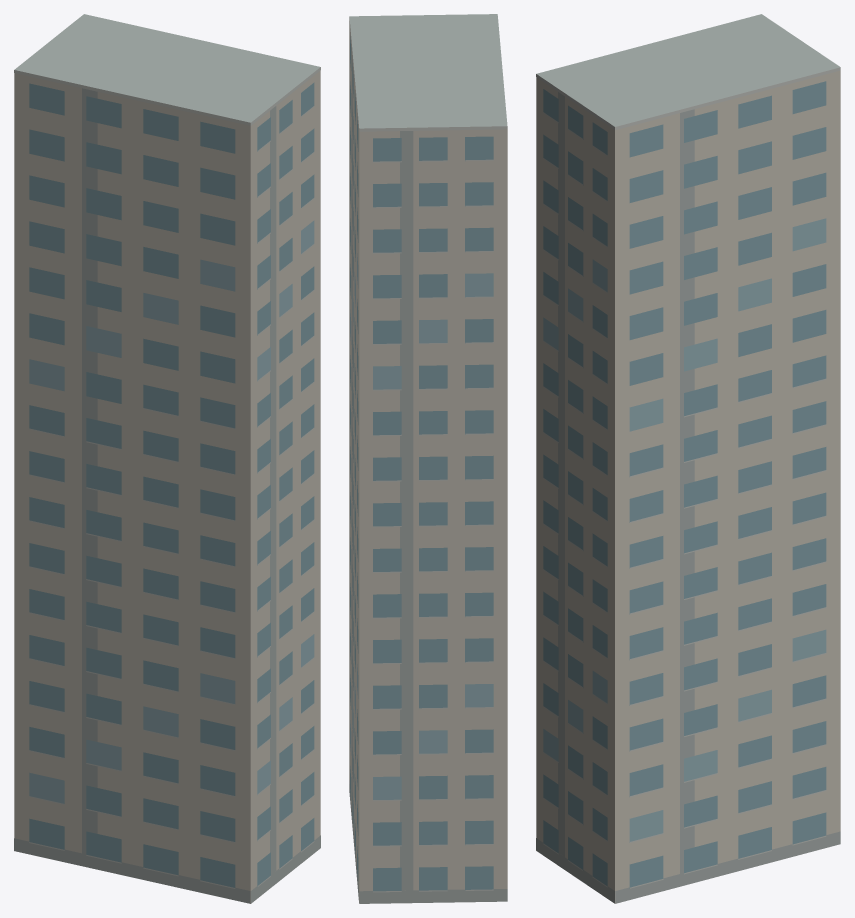
The model's file is residential-4f2a783a-c4cf-40f1-b343-253ece01cb34.glb.
The picture shows the model from 3 angles, left to right: view 1: azimuth 30°, elevation 25°; view 2: azimuth 150°, elevation 25°; view 3: azimuth 270°, elevation 25°; orthographic projection.
Visible parts, largest first — view 1: residential-4f2a783a-c4cf-40f1-b343-253ece01cb34.tmp; view 2: residential-4f2a783a-c4cf-40f1-b343-253ece01cb34.tmp; view 3: residential-4f2a783a-c4cf-40f1-b343-253ece01cb34.tmp.
Boxes of the visible parts, box(x1,y1,x2,y2) form: residential-4f2a783a-c4cf-40f1-b343-253ece01cb34.tmp: box(14, 14, 320, 903); residential-4f2a783a-c4cf-40f1-b343-253ece01cb34.tmp: box(349, 14, 507, 903); residential-4f2a783a-c4cf-40f1-b343-253ece01cb34.tmp: box(536, 14, 840, 903).
Bounding box in the file's own units: 18.42 × 59 × 20.97.
